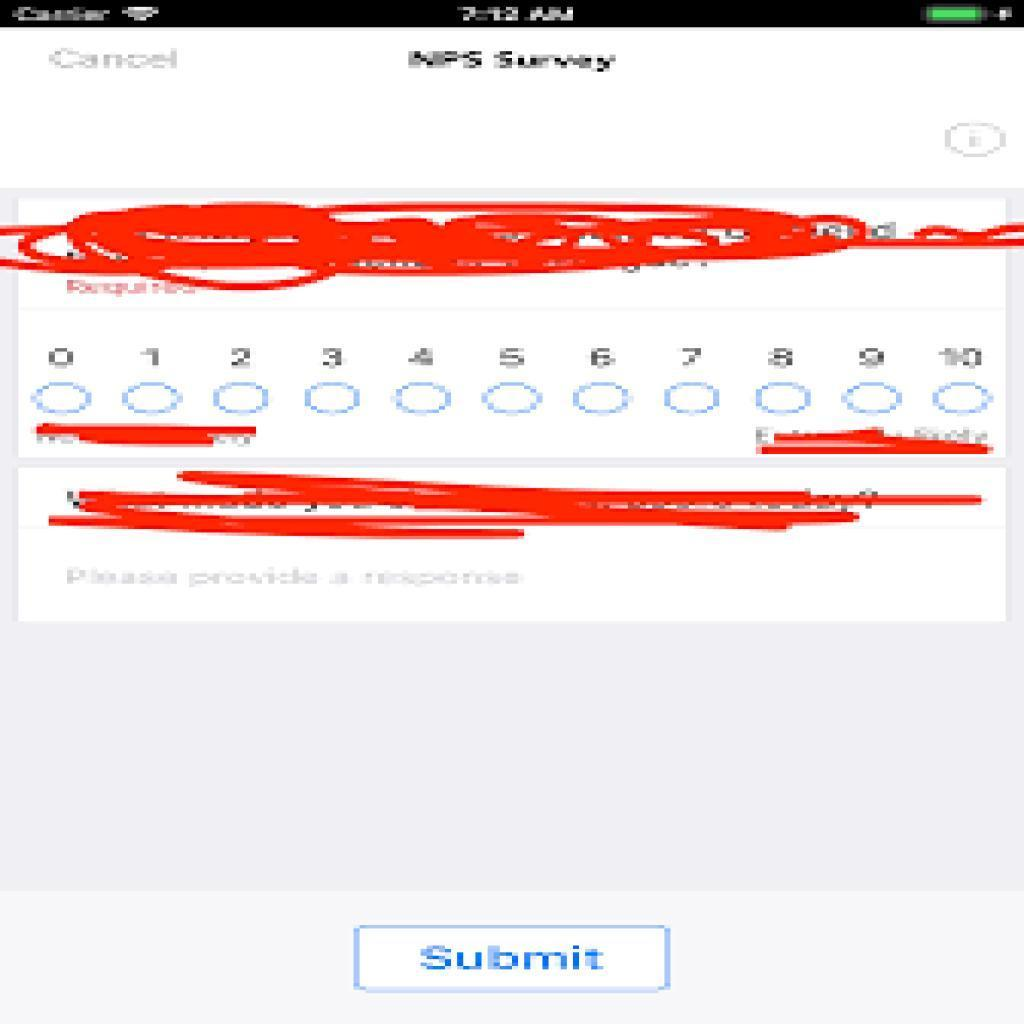button: (357, 929, 668, 990)
radio: (926, 377, 1005, 422), (843, 375, 909, 424), (747, 375, 820, 417), (206, 377, 281, 417), (301, 376, 367, 421), (25, 377, 99, 417), (390, 380, 458, 423), (565, 379, 638, 418), (660, 379, 730, 419), (121, 381, 195, 417), (480, 381, 544, 419)
